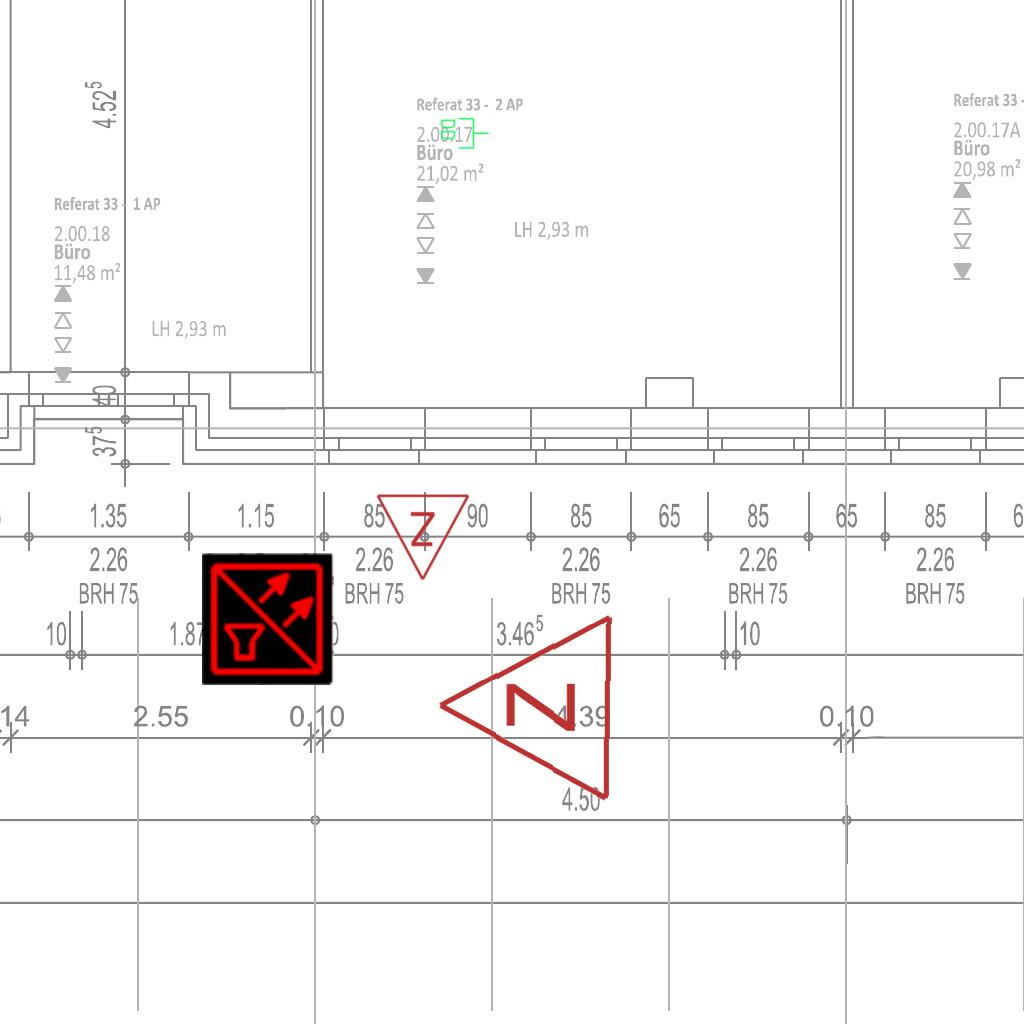Datenanschluss_zweifach: (439, 116, 490, 150)
OKW_Multisensormelder_(Kombination_optischer_Rauch-Kahlenmonoxid_Waerme-Melder): (202, 553, 334, 685)
Zimmersignalleuchte: (423, 609, 627, 809), (375, 487, 473, 587)
